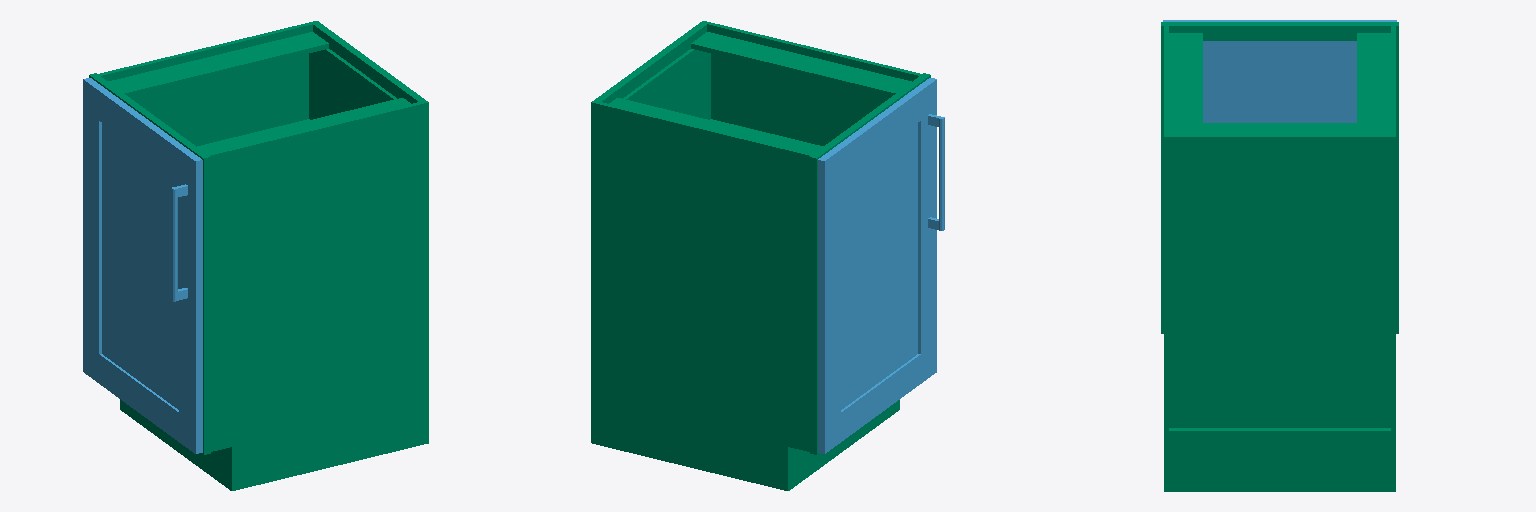
The robot description file, URDF, robot "partnet_1b212b67e5eb90f4da5feafe6f1c8fc":
<?xml version="1.0" ?>
<robot name="partnet_1b212b67e5eb90f4da5feafe6f1c8fc">
	<link name="base"/>
	<link name="link_0">
		<visual name="cabinet_door_surface-7">
			<origin xyz="0.4646380557584386 -0.7458149790763856 -0.5240458081672945"/>
			<geometry>
				<mesh filename="textured_objs/original-30.obj"/>
			</geometry>
		</visual>
		<visual name="cabinet_door_surface-7">
			<origin xyz="0.4646380557584386 -0.7458149790763856 -0.5240458081672945"/>
			<geometry>
				<mesh filename="textured_objs/original-24.obj"/>
			</geometry>
		</visual>
		<visual name="cabinet_door_surface-7">
			<origin xyz="0.4646380557584386 -0.7458149790763856 -0.5240458081672945"/>
			<geometry>
				<mesh filename="textured_objs/original-27.obj"/>
			</geometry>
		</visual>
		<visual name="cabinet_door_surface-7">
			<origin xyz="0.4646380557584386 -0.7458149790763856 -0.5240458081672945"/>
			<geometry>
				<mesh filename="textured_objs/original-25.obj"/>
			</geometry>
		</visual>
		<visual name="cabinet_door_surface-7">
			<origin xyz="0.4646380557584386 -0.7458149790763856 -0.5240458081672945"/>
			<geometry>
				<mesh filename="textured_objs/original-26.obj"/>
			</geometry>
		</visual>
		<visual name="cabinet_door_surface-7">
			<origin xyz="0.4646380557584386 -0.7458149790763856 -0.5240458081672945"/>
			<geometry>
				<mesh filename="textured_objs/original-29.obj"/>
			</geometry>
		</visual>
		<visual name="handle-8">
			<origin xyz="0.4646380557584386 -0.7458149790763856 -0.5240458081672945"/>
			<geometry>
				<mesh filename="textured_objs/original-32.obj"/>
			</geometry>
		</visual>
		<visual name="handle-8">
			<origin xyz="0.4646380557584386 -0.7458149790763856 -0.5240458081672945"/>
			<geometry>
				<mesh filename="textured_objs/original-34.obj"/>
			</geometry>
		</visual>
		<visual name="handle-8">
			<origin xyz="0.4646380557584386 -0.7458149790763856 -0.5240458081672945"/>
			<geometry>
				<mesh filename="textured_objs/original-33.obj"/>
			</geometry>
		</visual>
		<collision>
			<origin xyz="0.4646380557584386 -0.7458149790763856 -0.5240458081672945"/>
			<geometry>
				<mesh filename="textured_objs/original-30.obj"/>
			</geometry>
		</collision>
		<collision>
			<origin xyz="0.4646380557584386 -0.7458149790763856 -0.5240458081672945"/>
			<geometry>
				<mesh filename="textured_objs/original-24.obj"/>
			</geometry>
		</collision>
		<collision>
			<origin xyz="0.4646380557584386 -0.7458149790763856 -0.5240458081672945"/>
			<geometry>
				<mesh filename="textured_objs/original-27.obj"/>
			</geometry>
		</collision>
		<collision>
			<origin xyz="0.4646380557584386 -0.7458149790763856 -0.5240458081672945"/>
			<geometry>
				<mesh filename="textured_objs/original-25.obj"/>
			</geometry>
		</collision>
		<collision>
			<origin xyz="0.4646380557584386 -0.7458149790763856 -0.5240458081672945"/>
			<geometry>
				<mesh filename="textured_objs/original-26.obj"/>
			</geometry>
		</collision>
		<collision>
			<origin xyz="0.4646380557584386 -0.7458149790763856 -0.5240458081672945"/>
			<geometry>
				<mesh filename="textured_objs/original-29.obj"/>
			</geometry>
		</collision>
		<collision>
			<origin xyz="0.4646380557584386 -0.7458149790763856 -0.5240458081672945"/>
			<geometry>
				<mesh filename="textured_objs/original-32.obj"/>
			</geometry>
		</collision>
		<collision>
			<origin xyz="0.4646380557584386 -0.7458149790763856 -0.5240458081672945"/>
			<geometry>
				<mesh filename="textured_objs/original-34.obj"/>
			</geometry>
		</collision>
		<collision>
			<origin xyz="0.4646380557584386 -0.7458149790763856 -0.5240458081672945"/>
			<geometry>
				<mesh filename="textured_objs/original-33.obj"/>
			</geometry>
		</collision>
	</link>
	<joint name="joint_0" type="revolute">
		<origin xyz="-0.4646380557584386 0.7458149790763856 0.5240458081672945"/>
		<axis xyz="0 -1 0"/>
		<child link="link_0"/>
		<parent link="link_1"/>
		<limit lower="-0.0" upper="3.12413936106985"/>
	</joint>
	<link name="link_1">
		<visual name="shelf-4">
			<origin xyz="0 0 0"/>
			<geometry>
				<mesh filename="textured_objs/original-2.obj"/>
			</geometry>
		</visual>
		<visual name="shelf-5">
			<origin xyz="0 0 0"/>
			<geometry>
				<mesh filename="textured_objs/original-22.obj"/>
			</geometry>
		</visual>
		<visual name="vertical_side_panel-14">
			<origin xyz="0 0 0"/>
			<geometry>
				<mesh filename="textured_objs/original-16.obj"/>
			</geometry>
		</visual>
		<visual name="vertical_side_panel-14">
			<origin xyz="0 0 0"/>
			<geometry>
				<mesh filename="textured_objs/original-15.obj"/>
			</geometry>
		</visual>
		<visual name="vertical_side_panel-15">
			<origin xyz="0 0 0"/>
			<geometry>
				<mesh filename="textured_objs/original-12.obj"/>
			</geometry>
		</visual>
		<visual name="vertical_side_panel-15">
			<origin xyz="0 0 0"/>
			<geometry>
				<mesh filename="textured_objs/original-11.obj"/>
			</geometry>
		</visual>
		<visual name="back_panel-16">
			<origin xyz="0 0 0"/>
			<geometry>
				<mesh filename="textured_objs/original-6.obj"/>
			</geometry>
		</visual>
		<visual name="back_panel-16">
			<origin xyz="0 0 0"/>
			<geometry>
				<mesh filename="textured_objs/original-35.obj"/>
			</geometry>
		</visual>
		<visual name="bottom_panel-17">
			<origin xyz="0 0 0"/>
			<geometry>
				<mesh filename="textured_objs/original-3.obj"/>
			</geometry>
		</visual>
		<visual name="frame_vertical_bar-18">
			<origin xyz="0 0 0"/>
			<geometry>
				<mesh filename="textured_objs/original-4.obj"/>
			</geometry>
		</visual>
		<visual name="frame_vertical_bar-19">
			<origin xyz="0 0 0"/>
			<geometry>
				<mesh filename="textured_objs/original-8.obj"/>
			</geometry>
		</visual>
		<visual name="frame_horizontal_bar-20">
			<origin xyz="0 0 0"/>
			<geometry>
				<mesh filename="textured_objs/original-5.obj"/>
			</geometry>
		</visual>
		<visual name="frame_horizontal_bar-21">
			<origin xyz="0 0 0"/>
			<geometry>
				<mesh filename="textured_objs/original-21.obj"/>
			</geometry>
		</visual>
		<visual name="frame_horizontal_bar-22">
			<origin xyz="0 0 0"/>
			<geometry>
				<mesh filename="textured_objs/original-20.obj"/>
			</geometry>
		</visual>
		<visual name="frame_horizontal_bar-23">
			<origin xyz="0 0 0"/>
			<geometry>
				<mesh filename="textured_objs/original-9.obj"/>
			</geometry>
		</visual>
		<visual name="frame_horizontal_bar-24">
			<origin xyz="0 0 0"/>
			<geometry>
				<mesh filename="textured_objs/original-7.obj"/>
			</geometry>
		</visual>
		<visual name="base_side_panel-10">
			<origin xyz="0 0 0"/>
			<geometry>
				<mesh filename="textured_objs/original-18.obj"/>
			</geometry>
		</visual>
		<visual name="base_side_panel-11">
			<origin xyz="0 0 0"/>
			<geometry>
				<mesh filename="textured_objs/original-13.obj"/>
			</geometry>
		</visual>
		<visual name="base_side_panel-12">
			<origin xyz="0 0 0"/>
			<geometry>
				<mesh filename="textured_objs/original-19.obj"/>
			</geometry>
		</visual>
		<visual name="base_side_panel-13">
			<origin xyz="0 0 0"/>
			<geometry>
				<mesh filename="textured_objs/original-17.obj"/>
			</geometry>
		</visual>
		<collision>
			<origin xyz="0 0 0"/>
			<geometry>
				<mesh filename="textured_objs/original-2.obj"/>
			</geometry>
		</collision>
		<collision>
			<origin xyz="0 0 0"/>
			<geometry>
				<mesh filename="textured_objs/original-22.obj"/>
			</geometry>
		</collision>
		<collision>
			<origin xyz="0 0 0"/>
			<geometry>
				<mesh filename="textured_objs/original-16.obj"/>
			</geometry>
		</collision>
		<collision>
			<origin xyz="0 0 0"/>
			<geometry>
				<mesh filename="textured_objs/original-15.obj"/>
			</geometry>
		</collision>
		<collision>
			<origin xyz="0 0 0"/>
			<geometry>
				<mesh filename="textured_objs/original-12.obj"/>
			</geometry>
		</collision>
		<collision>
			<origin xyz="0 0 0"/>
			<geometry>
				<mesh filename="textured_objs/original-11.obj"/>
			</geometry>
		</collision>
		<collision>
			<origin xyz="0 0 0"/>
			<geometry>
				<mesh filename="textured_objs/original-6.obj"/>
			</geometry>
		</collision>
		<collision>
			<origin xyz="0 0 0"/>
			<geometry>
				<mesh filename="textured_objs/original-35.obj"/>
			</geometry>
		</collision>
		<collision>
			<origin xyz="0 0 0"/>
			<geometry>
				<mesh filename="textured_objs/original-3.obj"/>
			</geometry>
		</collision>
		<collision>
			<origin xyz="0 0 0"/>
			<geometry>
				<mesh filename="textured_objs/original-4.obj"/>
			</geometry>
		</collision>
		<collision>
			<origin xyz="0 0 0"/>
			<geometry>
				<mesh filename="textured_objs/original-8.obj"/>
			</geometry>
		</collision>
		<collision>
			<origin xyz="0 0 0"/>
			<geometry>
				<mesh filename="textured_objs/original-5.obj"/>
			</geometry>
		</collision>
		<collision>
			<origin xyz="0 0 0"/>
			<geometry>
				<mesh filename="textured_objs/original-21.obj"/>
			</geometry>
		</collision>
		<collision>
			<origin xyz="0 0 0"/>
			<geometry>
				<mesh filename="textured_objs/original-20.obj"/>
			</geometry>
		</collision>
		<collision>
			<origin xyz="0 0 0"/>
			<geometry>
				<mesh filename="textured_objs/original-9.obj"/>
			</geometry>
		</collision>
		<collision>
			<origin xyz="0 0 0"/>
			<geometry>
				<mesh filename="textured_objs/original-7.obj"/>
			</geometry>
		</collision>
		<collision>
			<origin xyz="0 0 0"/>
			<geometry>
				<mesh filename="textured_objs/original-18.obj"/>
			</geometry>
		</collision>
		<collision>
			<origin xyz="0 0 0"/>
			<geometry>
				<mesh filename="textured_objs/original-13.obj"/>
			</geometry>
		</collision>
		<collision>
			<origin xyz="0 0 0"/>
			<geometry>
				<mesh filename="textured_objs/original-19.obj"/>
			</geometry>
		</collision>
		<collision>
			<origin xyz="0 0 0"/>
			<geometry>
				<mesh filename="textured_objs/original-17.obj"/>
			</geometry>
		</collision>
	</link>
	<joint name="joint_1" type="fixed">
		<origin rpy="1.570796326794897 0 -1.570796326794897" xyz="0 0 0"/>
		<child link="link_1"/>
		<parent link="base"/>
	</joint>
</robot>

--- What the picture shows (computed from the rendered views, not written in the file) ---
The picture shows the robot from 3 angles, left to right: view 1: azimuth 30°, elevation 25°; view 2: azimuth 150°, elevation 25°; view 3: azimuth 270°, elevation 25°; orthographic projection.
Model partnet_1b212b67e5eb90f4da5feafe6f1c8fc with 3 links and 2 joints (1 revolute, 1 fixed), rooted at base, posed all joints at 0.
Visible links, largest first — view 1: link_1, link_0; view 2: link_1, link_0; view 3: link_1, link_0.
Boxes of the visible links, bbox=[...] form: link_1: bbox=[89, 21, 428, 490]; link_0: bbox=[83, 78, 202, 453]; link_1: bbox=[591, 21, 930, 490]; link_0: bbox=[818, 78, 944, 453]; link_1: bbox=[1161, 22, 1398, 491]; link_0: bbox=[1163, 20, 1396, 122].
Bounding box of the posed robot: 1.17 × 0.9355 × 1.54 m (x, y, z).
29 mesh visuals loaded from 29 distinct referenced files (29 OBJ).
